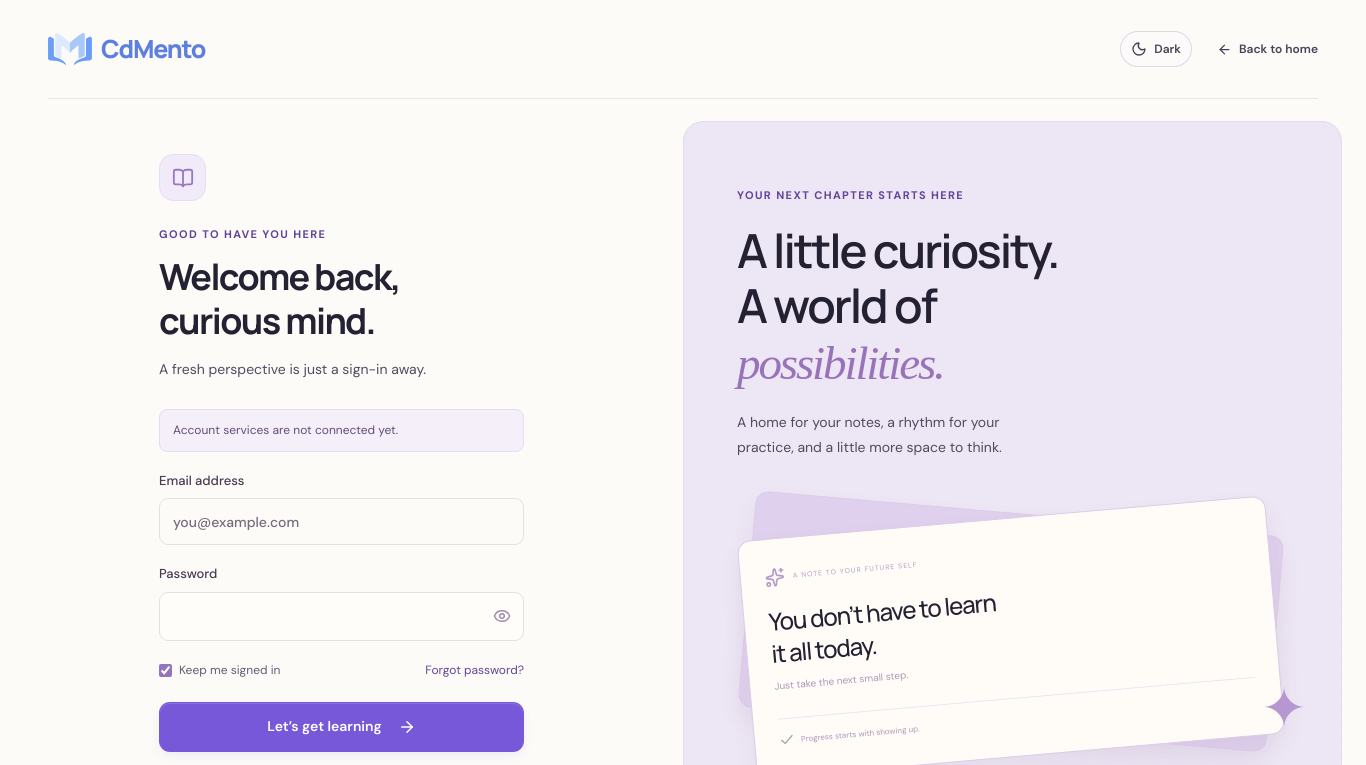
Test: public site and authentication › supports showing the password and honestly reports unconfigured sign-in
The width and height of the screenshot is (1366, 765).
Type "learner@example.com" into the field labelled "Email address" at {"x": 342, "y": 522}, box [159,498,524,546]
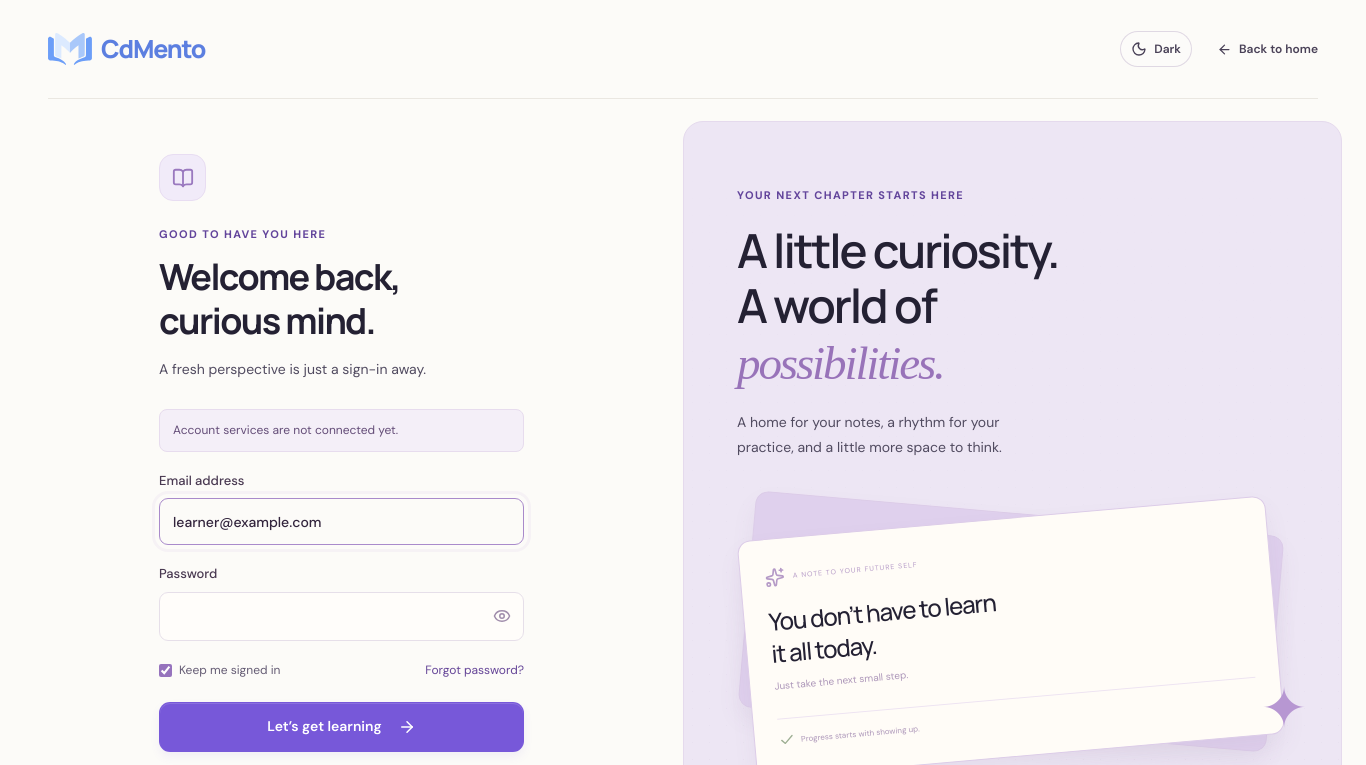
Type "example-only" into the password field labelled "Password" at {"x": 320, "y": 616}, box [160,593,481,640]
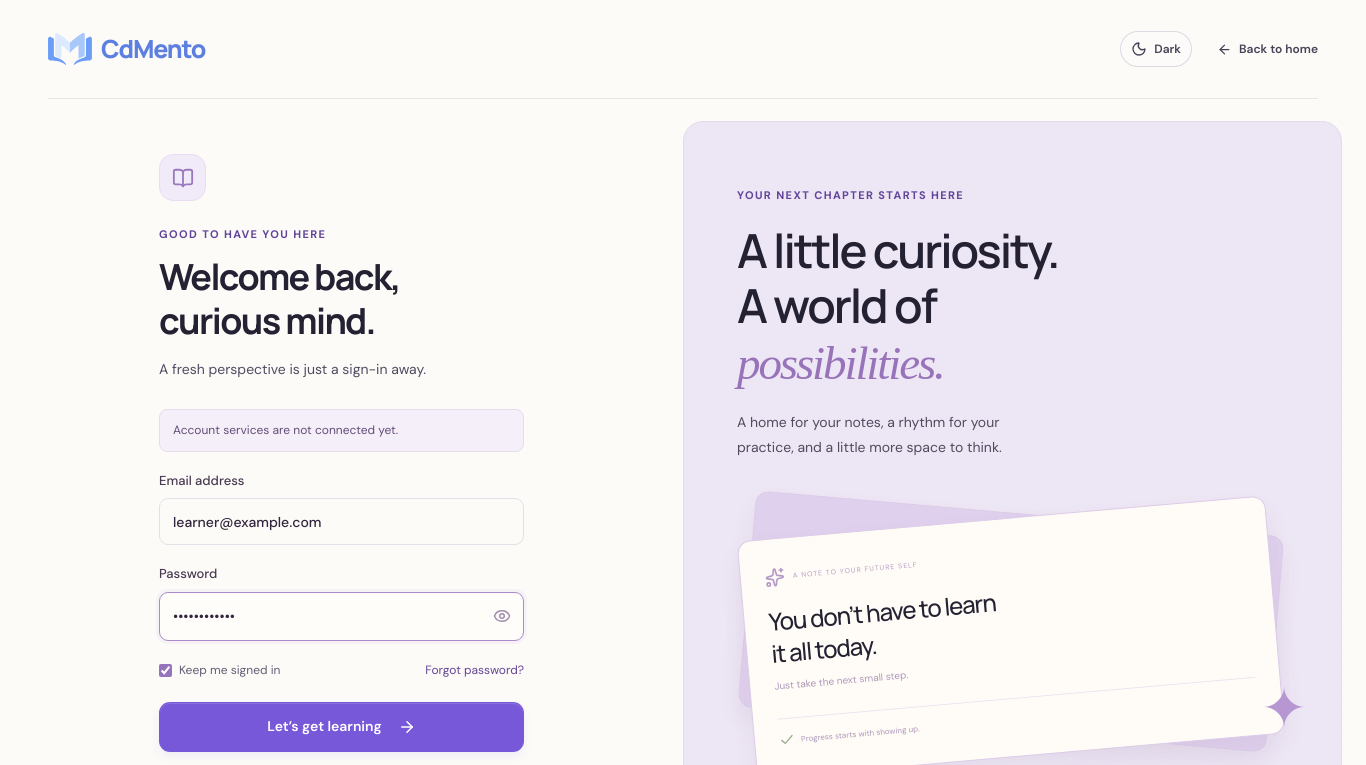
Click the button named "Show password" at {"x": 502, "y": 616}, box [481,596,523,638]
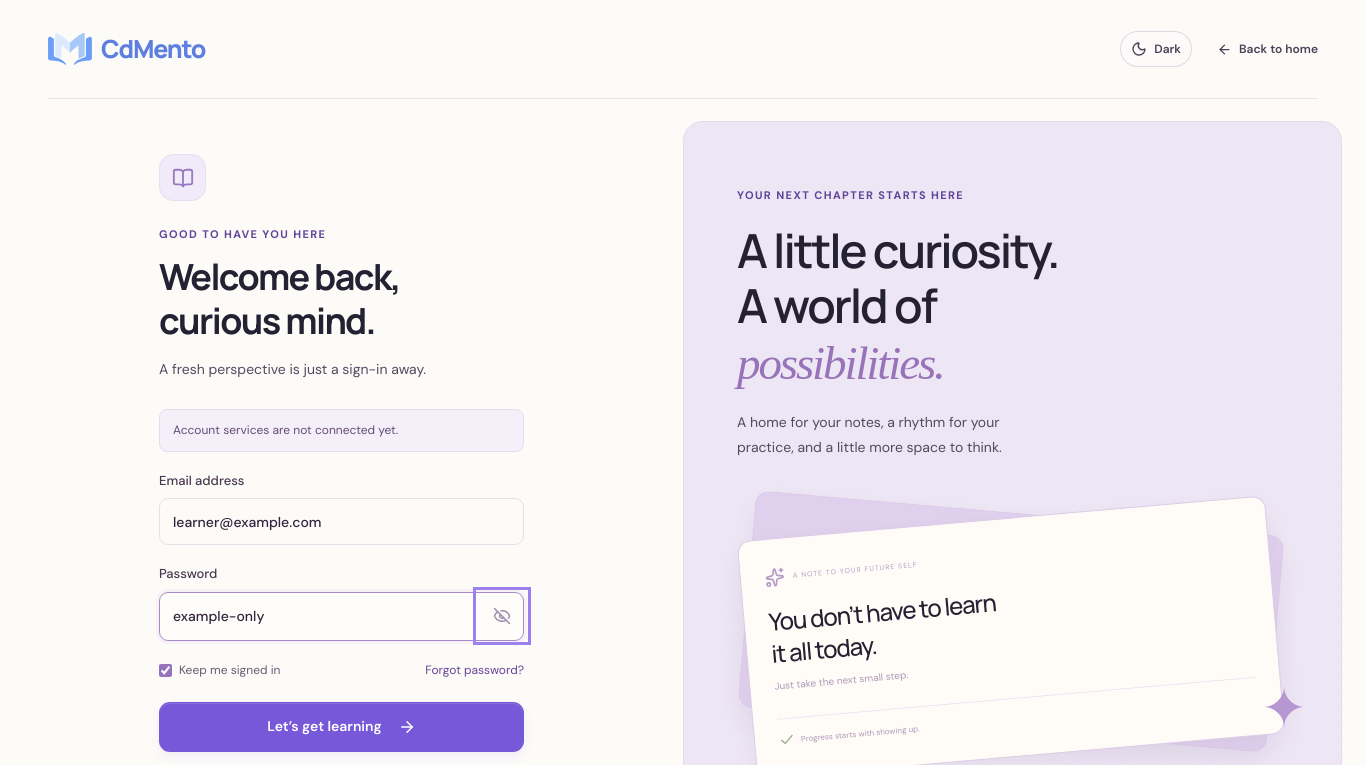
Result: the field labelled "Password" shows its text at [160,593,481,640]
Click the button "Let’s get learning" at {"x": 342, "y": 727}, box [159,702,524,752]
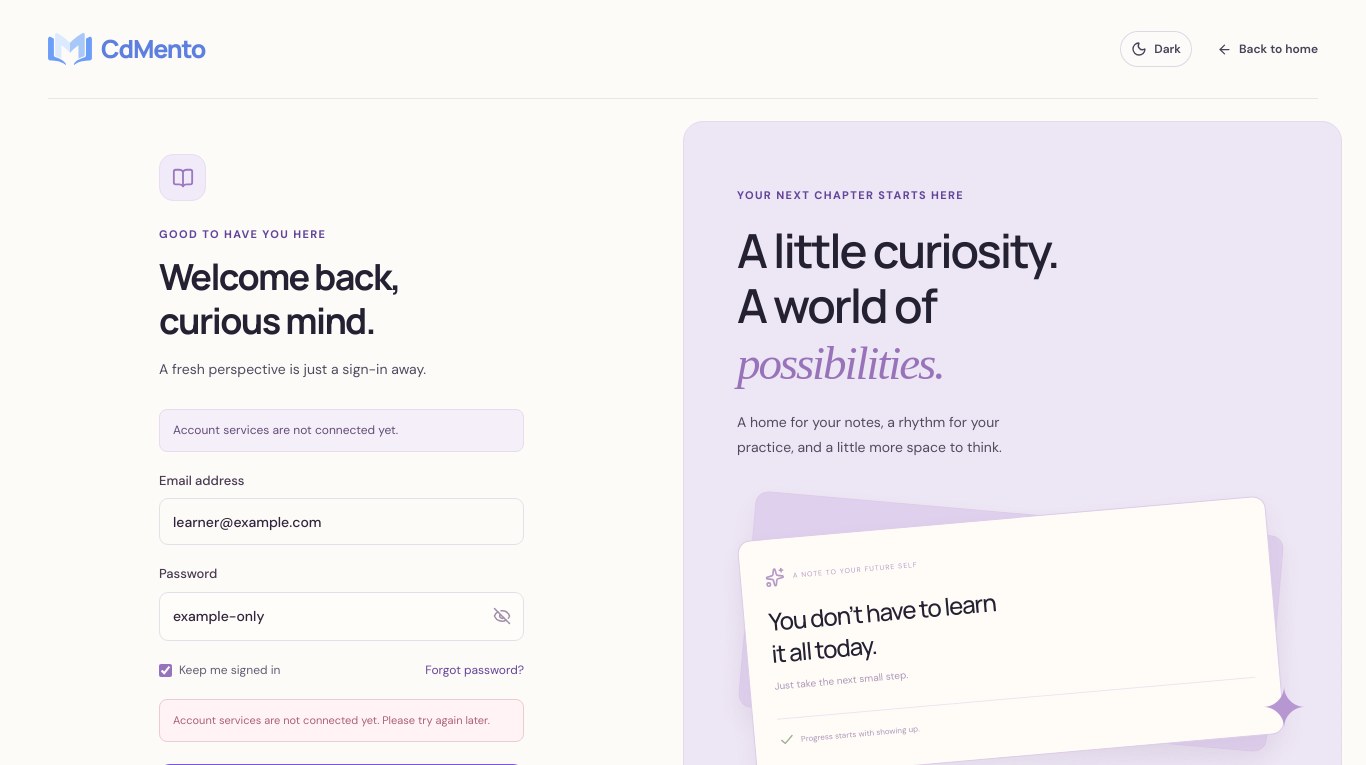
Result: the message "Account services are not connected yet. Please try again later." is shown at [159,699,524,742]
